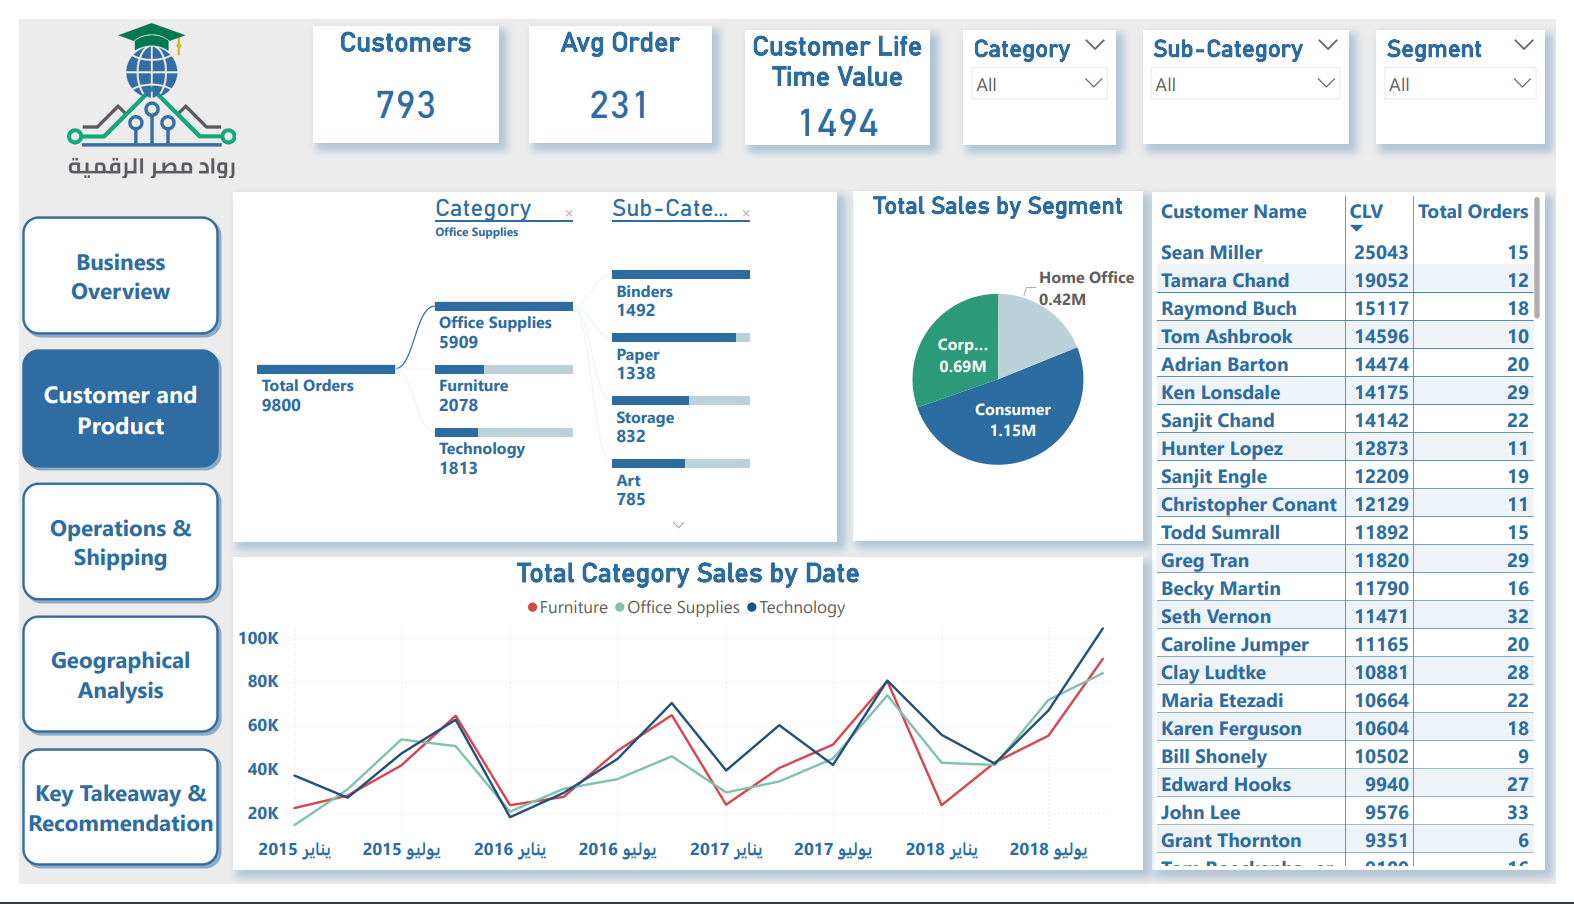

Layout of this report page (visuals, bound fields, positions):
{"tool":"powerbi","page":{"name":"Customer and Product","canvas":[1920,1080],"ordinal":1},"visuals":[{"type":"card","title":"Avg Order","fields":{"Values":["Avg(Superstore Sales Dataset.Sales)"]},"box":[637,9,228,144.8],"z":0},{"type":"card","title":"Customer Life Time Value","fields":{"Values":["Superstore Sales Dataset.Customer Lifetime Value"]},"box":[906.6,14.5,231.6,143],"z":1000},{"type":"pieChart","fields":{"Y":["Superstore Sales Dataset.Total Sales"],"Category":["Superstore Sales Dataset.Segment"]},"box":[1042.4,215.3,361.9,436.1],"z":2000},{"type":"tableEx","fields":{"Values":["Superstore Sales Dataset.Customer Name","Superstore Sales Dataset.Customer Lifetime Value","Superstore Sales Dataset.Total Orders"]},"box":[1417,215.3,503.1,846.9],"z":3000},{"type":"lineChart","title":"Total Category Sales by Date","fields":{"Y":["Superstore Sales Dataset.Total Sales"],"Series":["Superstore Sales Dataset.Category"],"Category":["Superstore Sales Dataset.Order Date.Variation.Date Hierarchy.Year","Superstore Sales Dataset.Order Date.Variation.Date Hierarchy.Quarter"]},"box":[282.3,671.4,1122,390.9],"z":4000},{"type":"slicer","fields":{"Values":["Superstore Sales Dataset.Category"]},"box":[1179.9,14.5,190,143],"z":5000},{"type":"slicer","fields":{"Values":["Superstore Sales Dataset.Sub-Category"]},"box":[1404.3,14.5,257,141.2],"z":6000},{"type":"slicer","fields":{"Values":["Superstore Sales Dataset.Segment"]},"box":[1695.7,14.5,193.6,141.2],"z":7000},{"type":"decompositionTreeVisual","fields":{"Analyze":["Superstore Sales Dataset.Total Orders"],"ExplainBy":["Superstore Sales Dataset.Category","Superstore Sales Dataset.Sub-Category"]},"box":[282.3,215.3,740.2,436.1],"z":8000},{"type":"image","box":[0,0,398.1,202.7],"z":9000},{"type":"pageNavigator","box":[0,242,254,820],"z":10000},{"type":"card","title":"Customers","fields":{"Values":["Superstore Sales Dataset.Total Customers"]},"box":[367.4,9,231.6,144.8],"z":11000}]}

Visuals, with their boxes in screenshot pixels (x1, y1, x2, y2), scaled from the page's 1920x1080 canvas onto the 1574x904 screenshot:
"Avg Order" card: <box>522,8,709,129</box>
"Customer Life Time Value" card: <box>743,12,933,132</box>
pieChart - Superstore Sales Dataset.Total Sales x Superstore Sales Dataset.Segment: <box>855,180,1151,545</box>
tableEx - Superstore Sales Dataset.Customer Name x Superstore Sales Dataset.Customer Lifetime Value: <box>1162,180,1573,889</box>
"Total Category Sales by Date" lineChart: <box>231,562,1151,889</box>
slicer - Superstore Sales Dataset.Category: <box>967,12,1123,132</box>
slicer - Superstore Sales Dataset.Sub-Category: <box>1151,12,1362,130</box>
slicer - Superstore Sales Dataset.Segment: <box>1390,12,1549,130</box>
decompositionTreeVisual - Superstore Sales Dataset.Total Orders x Superstore Sales Dataset.Category: <box>231,180,838,545</box>
image: <box>0,0,326,170</box>
pageNavigator: <box>0,203,208,889</box>
"Customers" card: <box>301,8,491,129</box>
